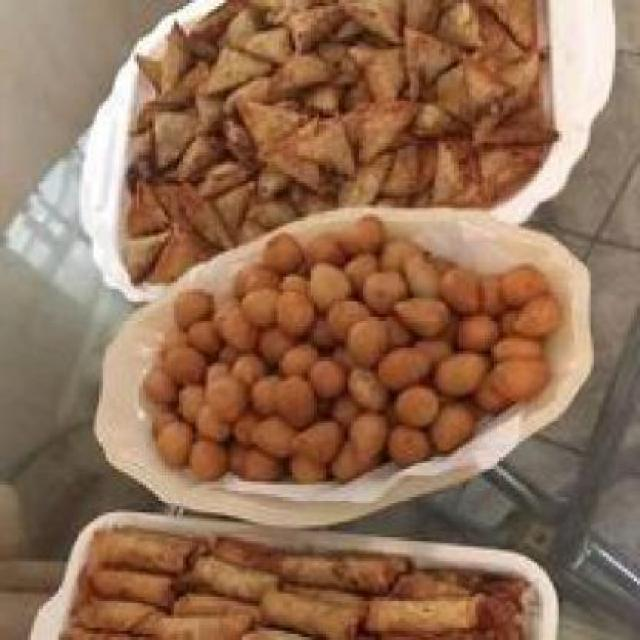spring rolls: (65, 515, 544, 637)
